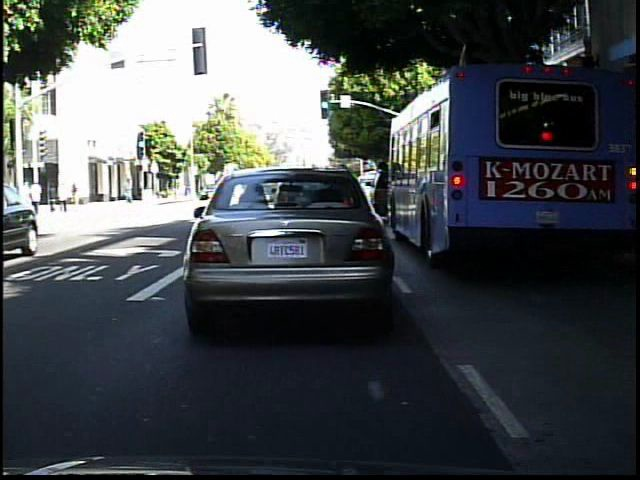person: (67, 176, 85, 214), (57, 176, 74, 216), (14, 179, 30, 219), (29, 178, 44, 219), (7, 179, 23, 217), (121, 173, 138, 208), (47, 181, 61, 214)
